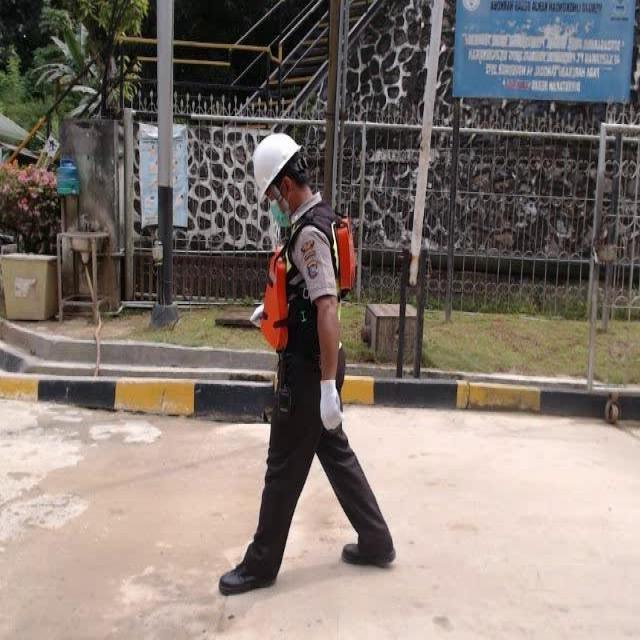gloves: (314, 374, 344, 436), (212, 570, 268, 599)
helmet: (250, 132, 306, 188)
